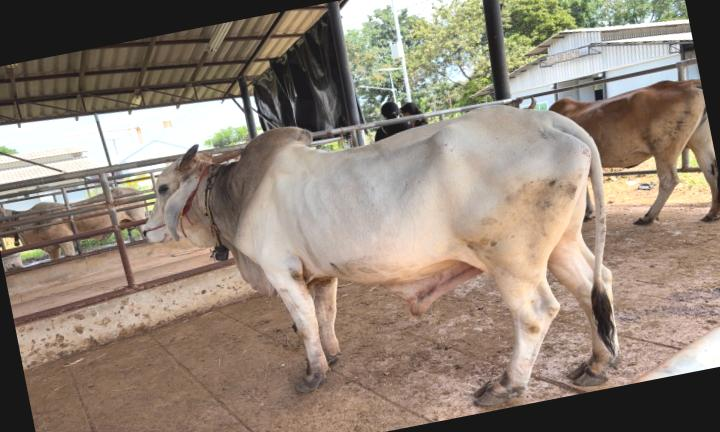Brahman: (146, 105, 618, 405)
